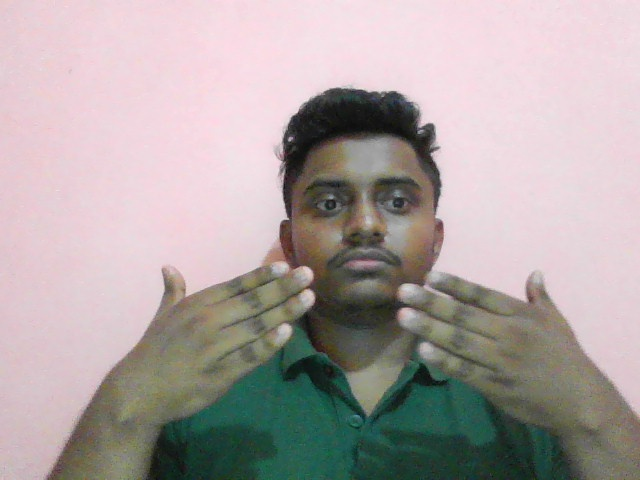Thank You: (94, 254, 629, 432)
